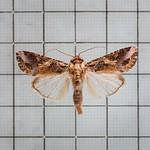Spodoptera litura: (16, 46, 138, 115)
